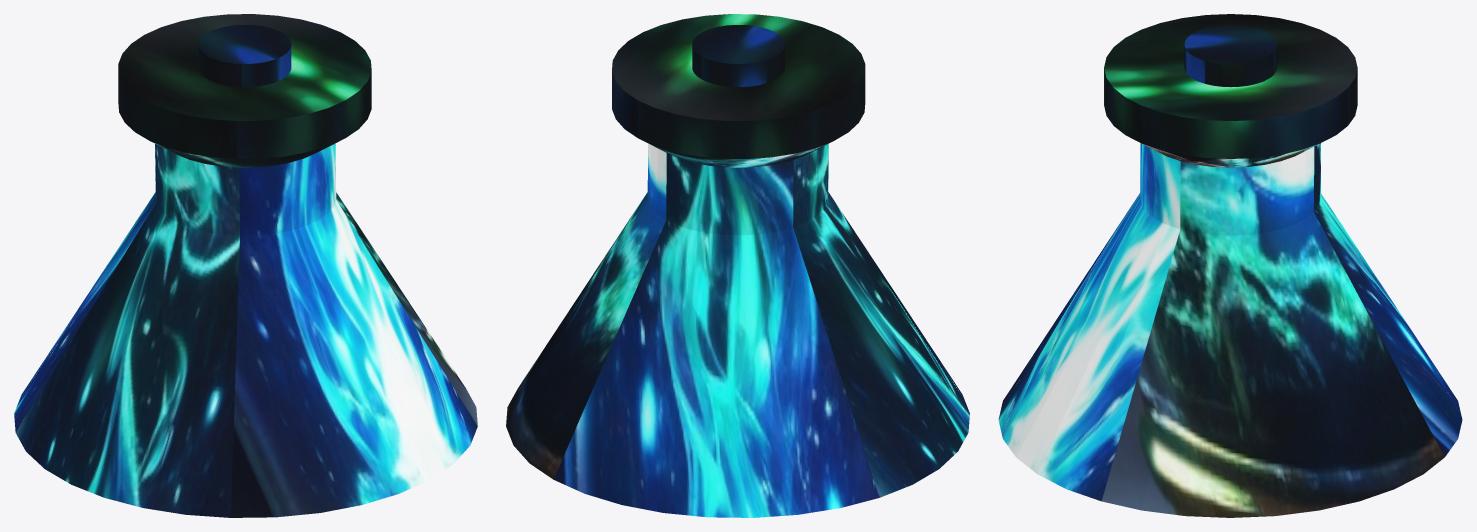
Rendered from laboratorium.glb.
The picture shows the model from 3 angles, left to right: view 1: azimuth 30°, elevation 25°; view 2: azimuth 150°, elevation 25°; view 3: azimuth 270°, elevation 25°; orthographic projection.
Parts seen in each view (by area): view 1: Laboratorium; view 2: Laboratorium; view 3: Laboratorium.
Part boxes in pixels (x1=…): Laboratorium: x1=14, y1=14, x2=477, y2=517; Laboratorium: x1=506, y1=14, x2=969, y2=517; Laboratorium: x1=998, y1=14, x2=1462, y2=517.
Bounding box in the file's own units: 1.2 × 1.07 × 1.2.
1 material, 1 textured.
